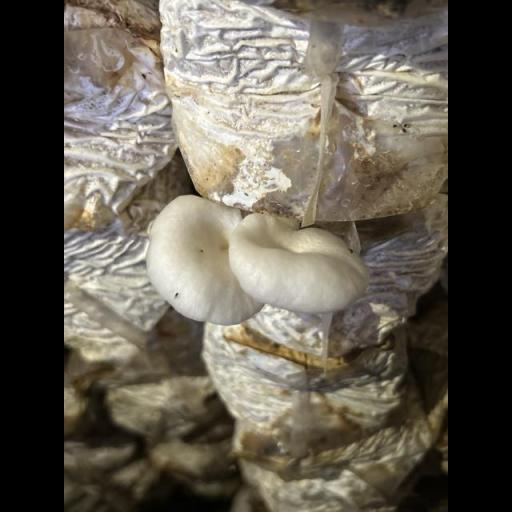White Oyster Mushroom: (136, 176, 381, 330)
